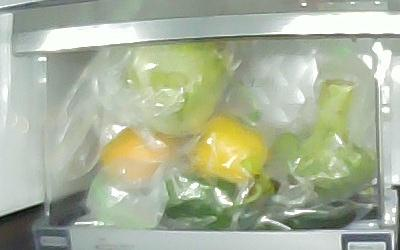broccoli_vinyl: (276, 79, 377, 192)
cucumber_vinyl: (233, 202, 357, 230)
grapefruit_vinyl: (101, 126, 189, 184)
lettuce_vinyl: (126, 41, 227, 135)
paprika_vinyl: (188, 115, 268, 183), (159, 176, 239, 231)
